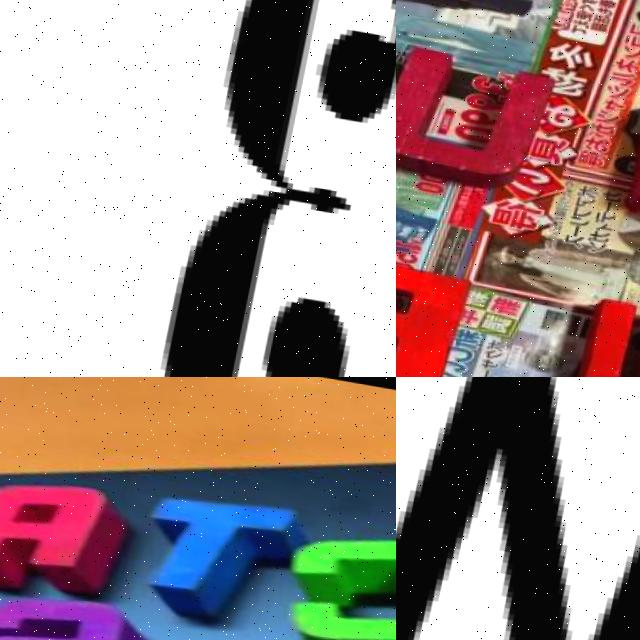3: (144, 0, 396, 377)
A: (0, 457, 139, 611)
C: (265, 509, 396, 640)
E: (396, 240, 476, 377)
S: (0, 579, 165, 640)
T: (118, 471, 328, 639)
U: (396, 35, 558, 185)
W: (396, 377, 640, 640), (574, 287, 640, 377)
